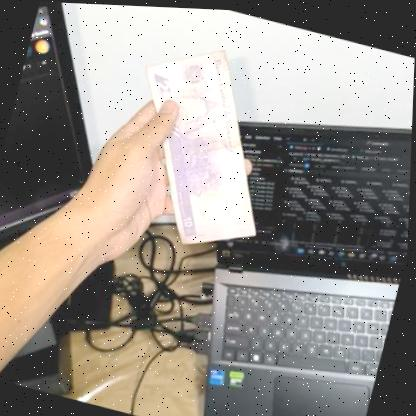ten-back-vef: (105, 28, 299, 260)
